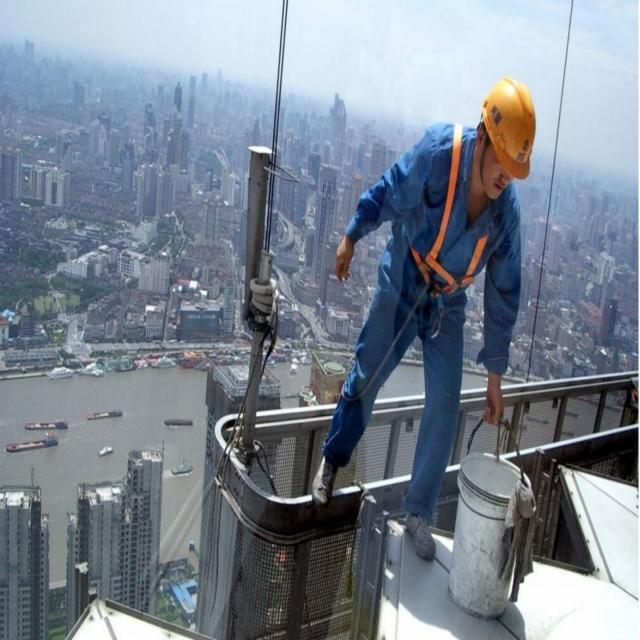shoes: (403, 511, 438, 569), (312, 450, 337, 512)
